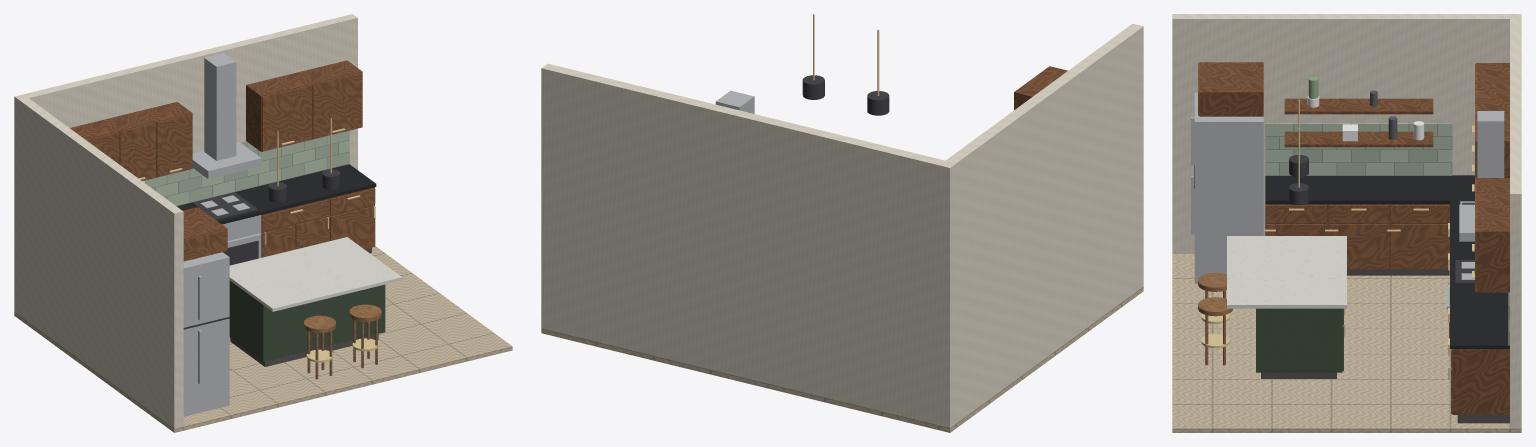
File: demo_kitchen.glb
The picture shows the model from 3 angles, left to right: view 1: azimuth 30°, elevation 25°; view 2: azimuth 150°, elevation 25°; view 3: azimuth 270°, elevation 25°; orthographic projection. The views are drawn at different scales.
Parts seen in each view (by area): view 1: Kitchen_K01; view 2: Kitchen_K01; view 3: Kitchen_K01.
Part boxes in pixels (box(x1,y1,x2,y2)): Kitchen_K01: box(14, 14, 512, 432); Kitchen_K01: box(541, 14, 1143, 432); Kitchen_K01: box(1172, 14, 1521, 432).
Size of the model in its own units: 4.44 by 2.75 by 3.64.
Materials: 19 (11 with a texture image).
